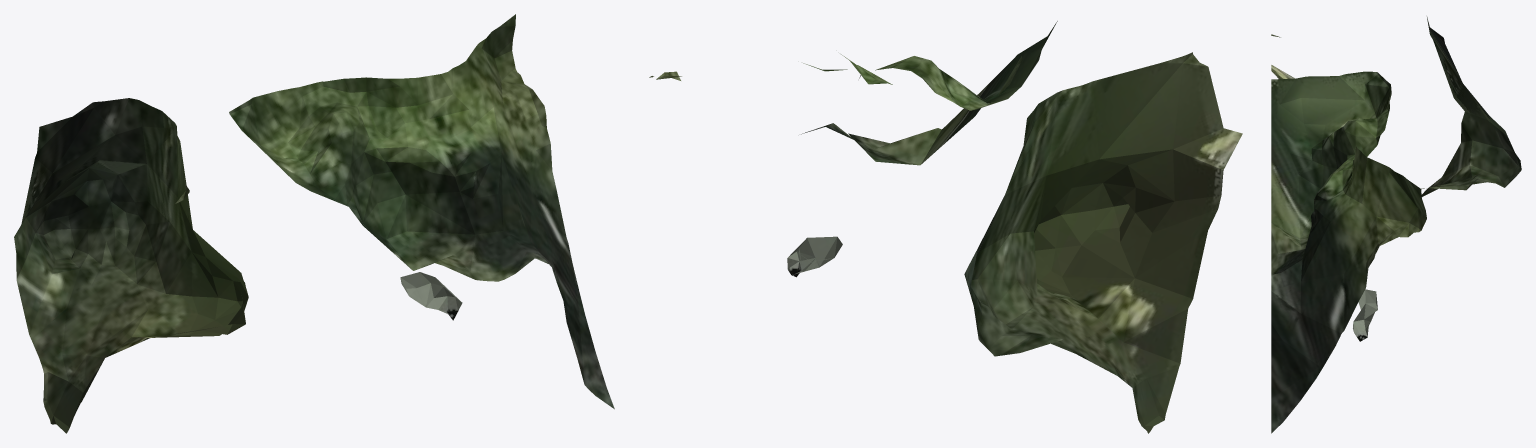
3 views of the same model, side by side, from view 1: azimuth 30°, elevation 25°; view 2: azimuth 150°, elevation 25°; view 3: azimuth 270°, elevation 25° (orthographic). The views are drawn at different scales.
Bounding box in the file's own units: 5.9 × 3.85 × 3.57.
2 materials, 2 textured.
